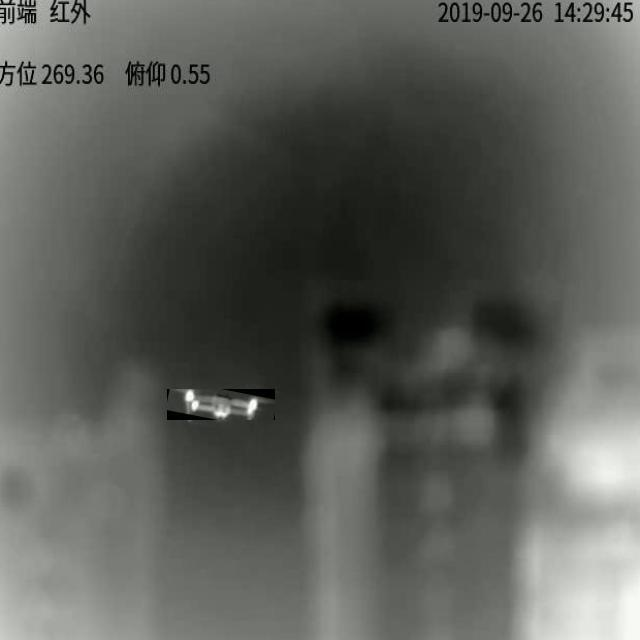drone: (170, 389, 275, 420)
